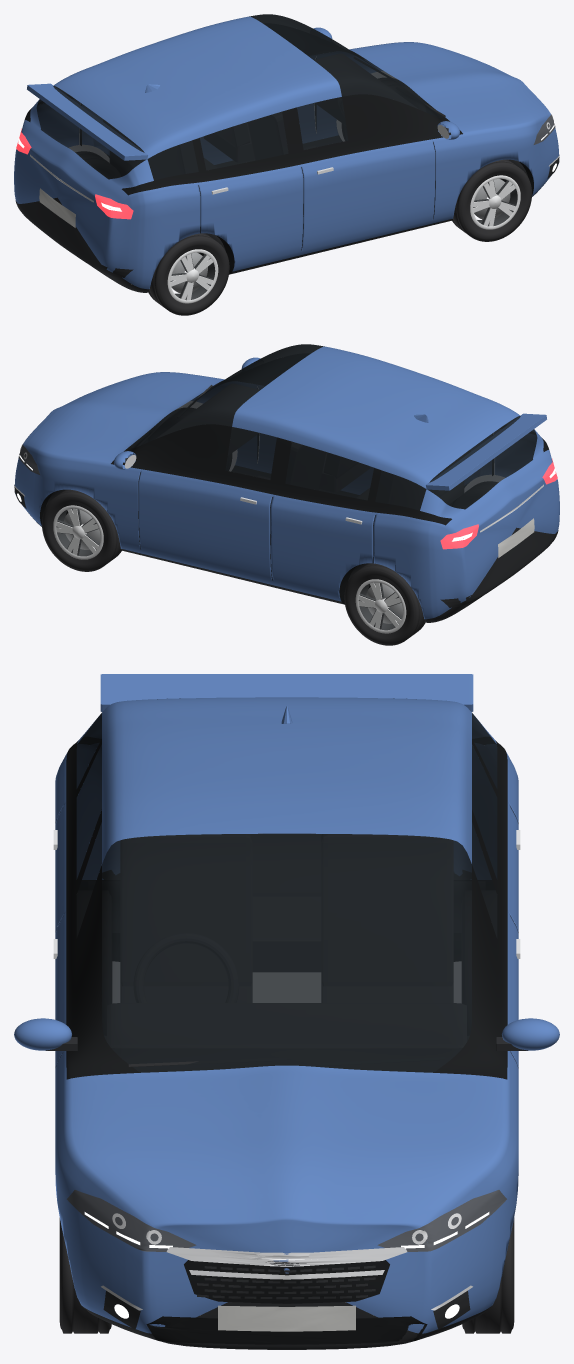
Rendered from maruti-baleno-model.glb.
3 views of the same model, one above another, from view 1: azimuth 30°, elevation 25°; view 2: azimuth 150°, elevation 25°; view 3: azimuth 270°, elevation 25° (orthographic). The views are drawn at different scales.
Visible parts, largest first — view 1: Body, Wheel.004, Wheel.002, Spoiler, Dashboard, SeatBack.002, SeatBack.001, RearBumper, TailLamp, SeatBase, PlateRear, Wheel.003 (+2 smaller); view 2: Body, Wheel.003, Wheel.001, Spoiler, Dashboard, SeatBack.002, SeatBack, RearBumper, TailLamp, SeatBase.001, PlateRear, Wheel.004 (+2 smaller); view 3: Body, Dashboard, SeatBack, SeatBack.001, Spoiler, Grille, Intake, SeatBase.002, Headlamp, SeatBack.002, PlateFront, GrilleChrome0 (+12 smaller).
Part boxes in pixels (x1,y1,x2,y2): Body: (14, 14, 559, 292); Wheel.004: (148, 233, 229, 315); Wheel.002: (452, 159, 531, 241); Spoiler: (27, 83, 147, 160); Dashboard: (314, 54, 415, 124); SeatBack.002: (103, 120, 197, 179); SeatBack.001: (248, 112, 287, 159); RearBumper: (15, 200, 133, 277); TailLamp: (16, 128, 133, 219); SeatBase: (204, 123, 254, 161); PlateRear: (39, 188, 75, 227); Wheel.003: (77, 152, 120, 178); Body: (14, 344, 559, 622); Wheel.003: (344, 563, 425, 645); Wheel.001: (42, 489, 121, 571); Spoiler: (426, 413, 546, 490); Dashboard: (158, 384, 259, 454); SeatBack.002: (376, 450, 470, 509); SeatBack: (286, 442, 325, 489); RearBumper: (440, 530, 558, 607); TailLamp: (440, 458, 557, 549); SeatBase.001: (319, 453, 369, 491); PlateRear: (498, 518, 534, 557); Wheel.004: (453, 482, 496, 508); Body: (55, 697, 518, 1349); Dashboard: (107, 1003, 466, 1072); SeatBack: (322, 834, 452, 985); SeatBack.001: (121, 834, 251, 985); Spoiler: (100, 674, 473, 711); Grille: (184, 1260, 389, 1303); Intake: (146, 1316, 427, 1344); SeatBase.002: (253, 897, 320, 971); Headlamp: (67, 1190, 506, 1251); SeatBack.002: (252, 833, 321, 895); PlateFront: (218, 1305, 355, 1331); GrilleChrome0: (166, 1247, 407, 1266).
Bounding box in the file's own units: 3.93 × 1.5 × 2.06.
